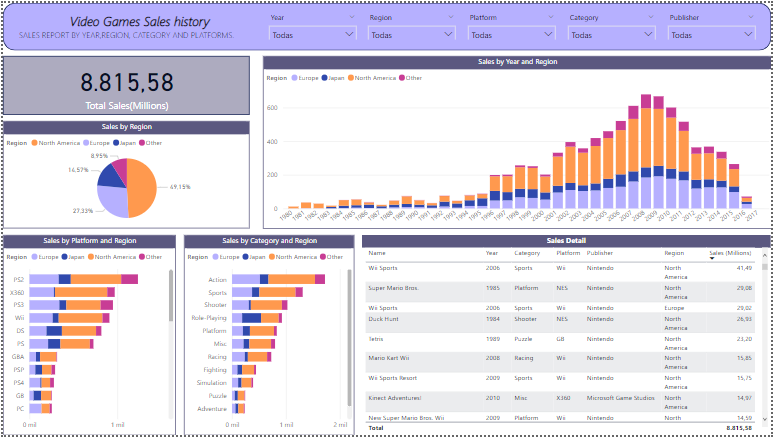

Layout of this report page (visuals, bound fields, positions):
{"tool":"powerbi","page":{"name":"Sales","canvas":[1280,720],"ordinal":0},"visuals":[{"type":"shape","box":[0,0,1280,78.8],"z":0},{"type":"tableEx","title":"Sales Detail","fields":{"Values":["Ventas Videojuegos.Nombre","Ventas Videojuegos.Año","Ventas Videojuegos.Genero","Ventas Videojuegos.Plataforma","Ventas Videojuegos.Editorial","Ventas Videojuegos.Region","Sum(Ventas Videojuegos.Sales (Millions))"]},"box":[598.8,386.2,681.2,333.8],"z":1000},{"type":"columnChart","title":"Sales by Year and Region","fields":{"Category":["Ventas Videojuegos.Año"],"Y":["Sum(Ventas Videojuegos.Ventas (Millones))"],"Series":["Ventas Videojuegos.Region"]},"box":[432.5,88.8,847.5,287.5],"z":2000},{"type":"pieChart","title":"Sales by Region","fields":{"Category":["Ventas Videojuegos.Region"],"Y":["Sum(Ventas Videojuegos.Ventas (Millones))"]},"box":[0,196.2,411.2,178.8],"z":3000},{"type":"barChart","title":"Sales by Platform and Region","fields":{"Category":["Ventas Videojuegos.Plataforma"],"Y":["Sum(Ventas Videojuegos.Ventas (Millones))"],"Series":["Ventas Videojuegos.Region"]},"box":[0,386.2,287.5,333.8],"z":4000},{"type":"barChart","title":"Sales by Category and Region","fields":{"Y":["Sum(Ventas Videojuegos.Ventas (Millones))"],"Series":["Ventas Videojuegos.Region"],"Category":["Ventas Videojuegos.Genero"]},"box":[301.2,386.2,283.8,333.8],"z":5000},{"type":"slicer","fields":{"Values":["Ventas Videojuegos.Año"]},"box":[432.5,10,166.2,51.2],"z":6000},{"type":"slicer","fields":{"Values":["Ventas Videojuegos.Region"]},"box":[598.8,10,166.2,51.2],"z":7000},{"type":"slicer","fields":{"Values":["Ventas Videojuegos.Plataforma"]},"box":[765,10,166.2,51.2],"z":8000},{"type":"slicer","fields":{"Values":["Ventas Videojuegos.Genero"]},"box":[931.2,10,166.2,51.2],"z":9000},{"type":"slicer","fields":{"Values":["Ventas Videojuegos.Editorial"]},"box":[1097.5,10,166.2,51.2],"z":10000},{"type":"card","fields":{"Values":["Sum(Ventas Videojuegos.Ventas (Millones))"]},"box":[0,88.8,411.2,97.5],"z":11000},{"type":"textbox","box":[21.2,10,411.2,78.8],"z":11001}]}

Visuals, with their boxes in screenshot pixels (x1, y1, x2, y2), scaled from the page's 1280x720 canvas onto the 775x439 screenshot:
shape: box=[0, 0, 774, 48]
"Sales Detail" tableEx: box=[363, 235, 774, 438]
"Sales by Year and Region" columnChart: box=[262, 54, 774, 229]
"Sales by Region" pieChart: box=[0, 120, 249, 229]
"Sales by Platform and Region" barChart: box=[0, 235, 174, 438]
"Sales by Category and Region" barChart: box=[182, 235, 354, 438]
slicer - Ventas Videojuegos.Año: box=[262, 6, 362, 37]
slicer - Ventas Videojuegos.Region: box=[363, 6, 463, 37]
slicer - Ventas Videojuegos.Plataforma: box=[463, 6, 564, 37]
slicer - Ventas Videojuegos.Genero: box=[564, 6, 664, 37]
slicer - Ventas Videojuegos.Editorial: box=[665, 6, 765, 37]
card - Sum(Ventas Videojuegos.Ventas (Millones)): box=[0, 54, 249, 114]
textbox: box=[13, 6, 262, 54]
